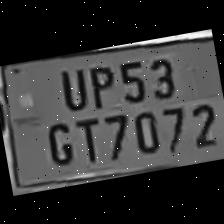0: (125, 104, 162, 156)
2: (182, 97, 222, 150)
3: (142, 51, 179, 101)
5: (111, 55, 148, 104)
7: (96, 108, 132, 162), (156, 101, 189, 154)
G: (39, 116, 76, 168)
P: (82, 58, 119, 110)
T: (70, 113, 103, 165)
U: (53, 61, 91, 114)
